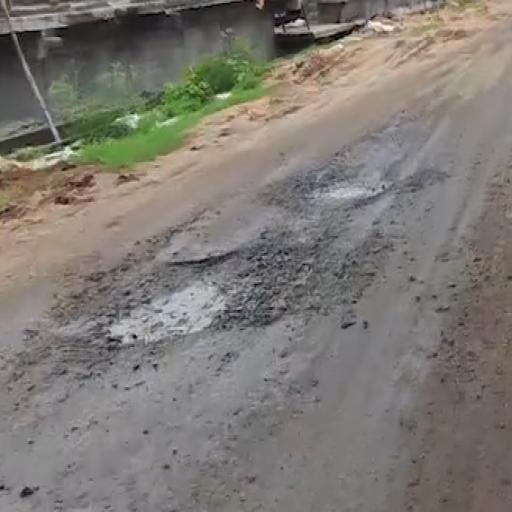pothole: (37, 214, 242, 380), (275, 120, 406, 222)
ravelling: (237, 235, 411, 375)
